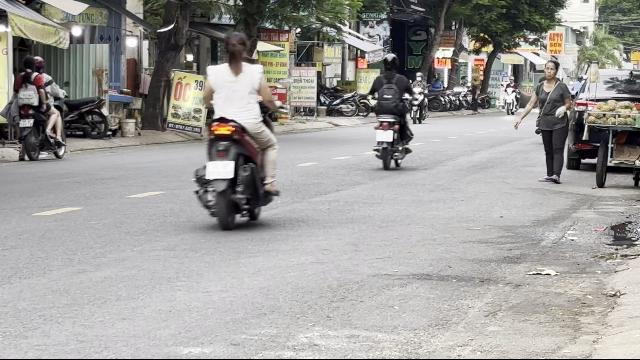helmet: (382, 52, 398, 72), (33, 56, 45, 72)
licenseplate: (206, 160, 234, 178), (376, 130, 392, 142), (20, 119, 34, 127)
motorcyclist: (192, 30, 282, 229), (8, 54, 66, 162), (368, 52, 414, 168)
nohelmet: (223, 31, 249, 64), (22, 56, 36, 72)
